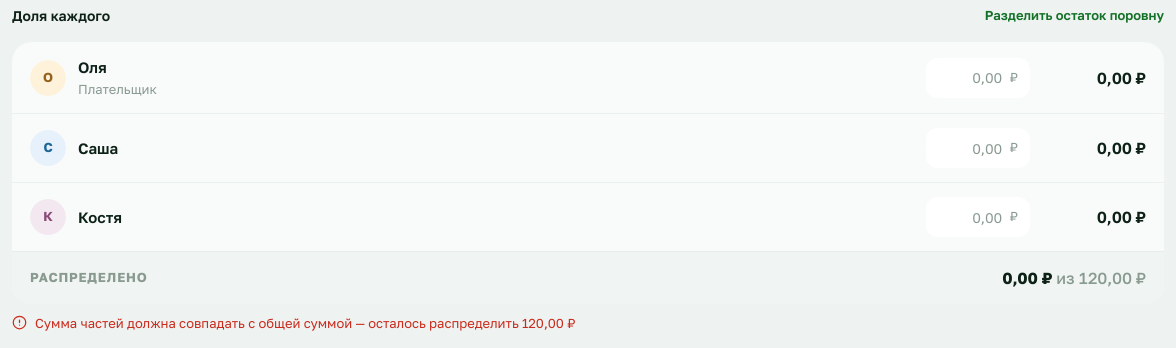
Scenario: SplitEditor — other modes › tells the user how much of an exact split is still unassigned
Type "80" into the field named "Точная сумма: Оля" at (978, 78), box [926,58,1030,98]
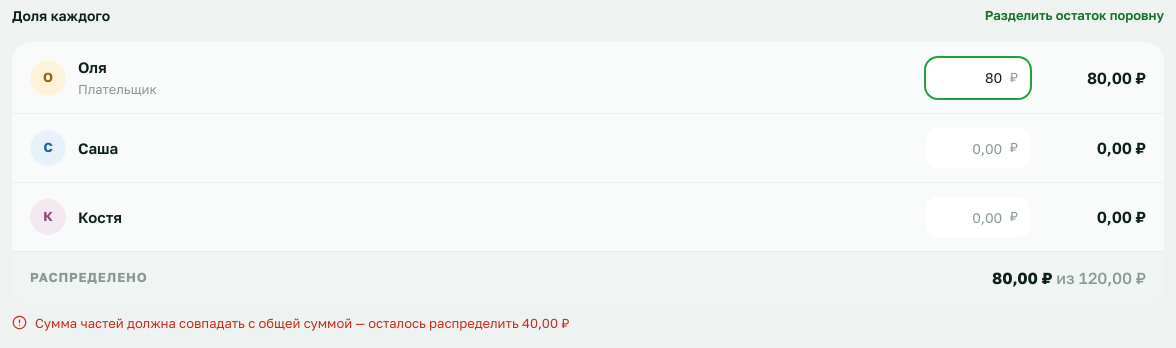
Expected: the text "Сумма частей должна совпадать с общей суммой" is shown, [35,315,352,331]
Expected: the text "осталось распределить 40,00 ₽" is shown, [352,315,570,331]
